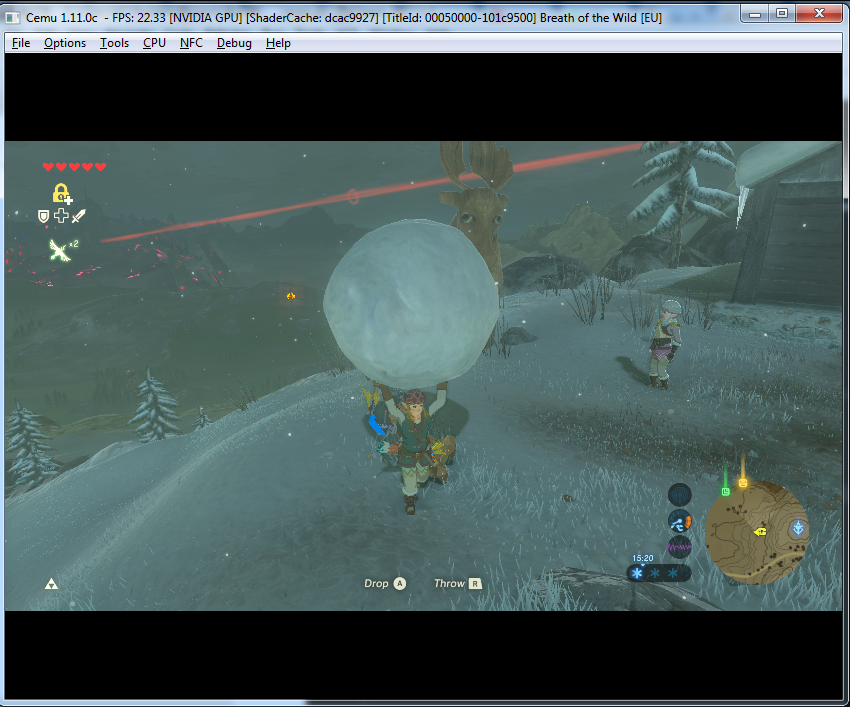dude: (645, 296, 685, 394)
link: (350, 388, 494, 520)
snowball: (306, 212, 512, 385)
